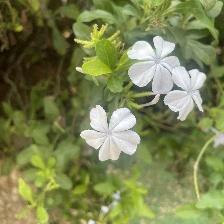chitrak: (80, 105, 146, 165), (129, 36, 177, 95), (167, 67, 208, 122)
